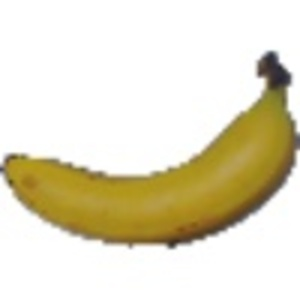banana: (7, 59, 298, 255)
